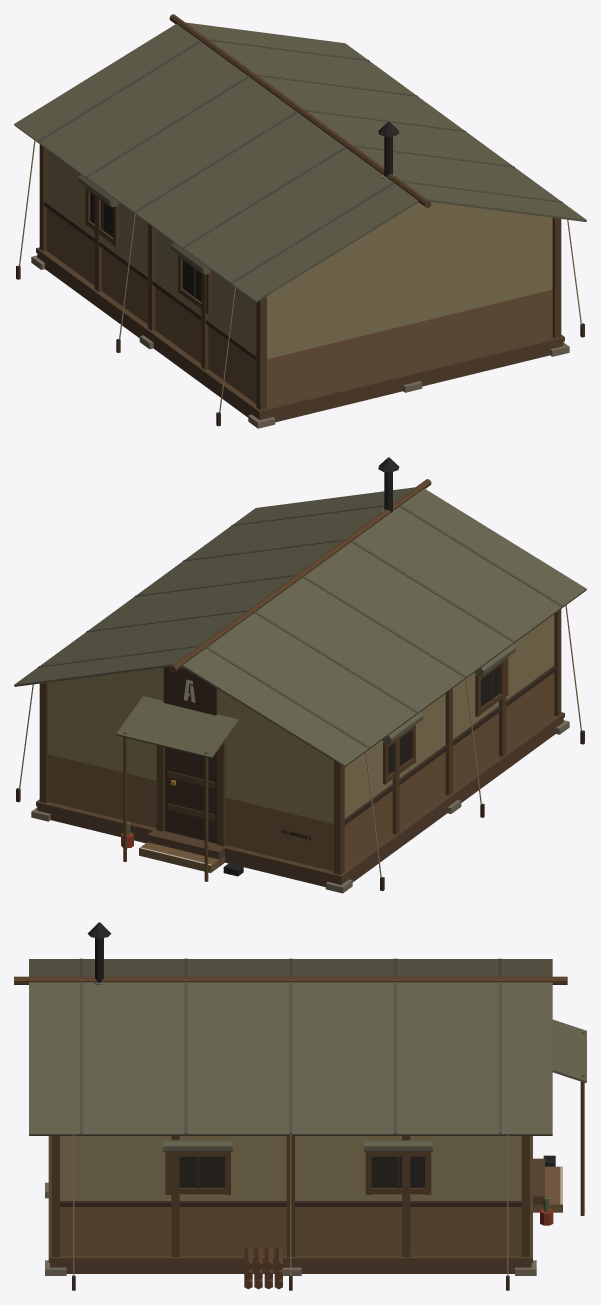
File: BunkhouseA.glb
3 views of the same model, one above another, from view 1: azimuth 30°, elevation 25°; view 2: azimuth 150°, elevation 25°; view 3: azimuth 270°, elevation 25° (orthographic). The views are drawn at different scales.
Parts seen in each view (by area): view 1: BunkhouseA; view 2: BunkhouseA; view 3: BunkhouseA.
Part boxes in pixels (box(x1,y1,x2,y2)): BunkhouseA: box(14, 14, 586, 428); BunkhouseA: box(14, 457, 586, 893); BunkhouseA: box(14, 922, 586, 1290).
Size of the model in its own units: 7.68 by 5 by 9.58.
